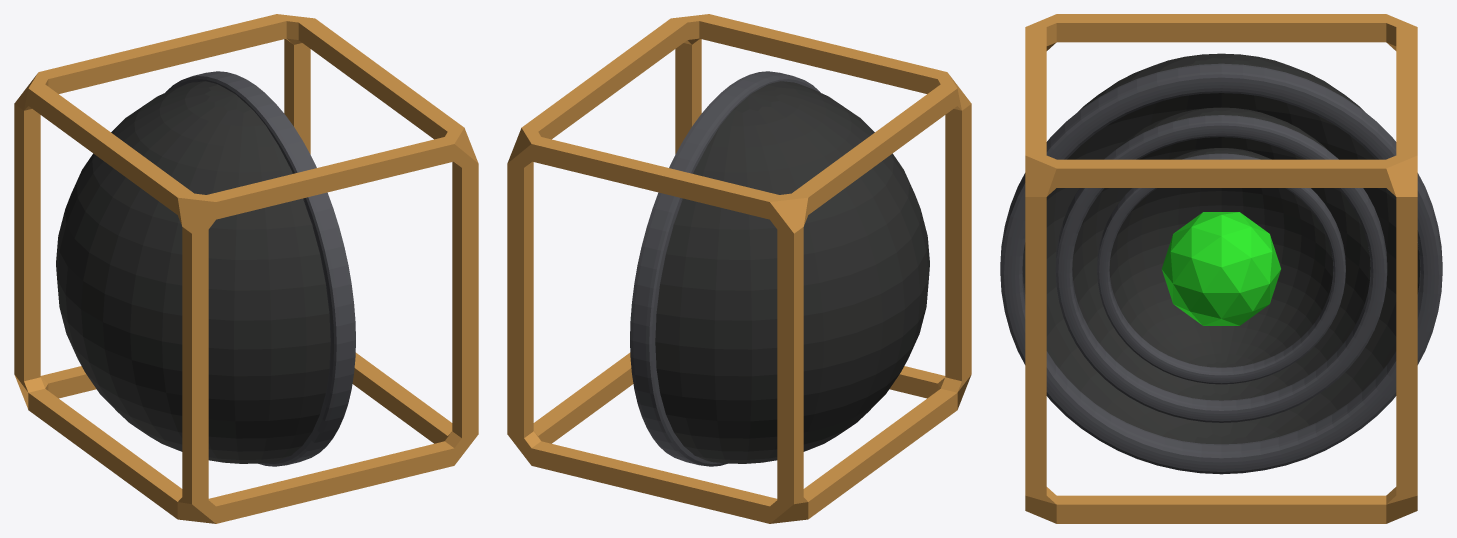
File: NullElement.fbx
3 views of the same model, side by side, from view 1: azimuth 30°, elevation 25°; view 2: azimuth 150°, elevation 25°; view 3: azimuth 270°, elevation 25° (orthographic). The views are drawn at different scales.
Visible parts, largest first — view 1: Cylinder.034, Cylinder.035; view 2: Cylinder.034, Cylinder.035; view 3: Cylinder.034, Cylinder.035, Cylinder.068, Cylinder.103, Cylinder.104.
Boxes of the visible parts, x1,y1,x2,y2 form: Cylinder.034: (56,71,355,466); Cylinder.035: (14,14,478,523); Cylinder.034: (630,71,929,466); Cylinder.035: (507,14,971,523); Cylinder.034: (1000,53,1442,474); Cylinder.035: (1025,14,1417,523); Cylinder.068: (1055,107,1387,422); Cylinder.103: (1097,148,1345,384); Cylinder.104: (1162,212,1280,325).
Bounding box in the file's own units: 1208 × 1357 × 1357.
